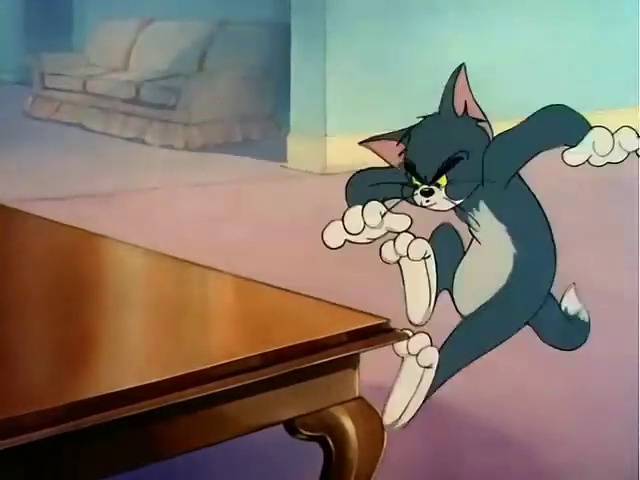tom: (300, 58, 639, 439)
